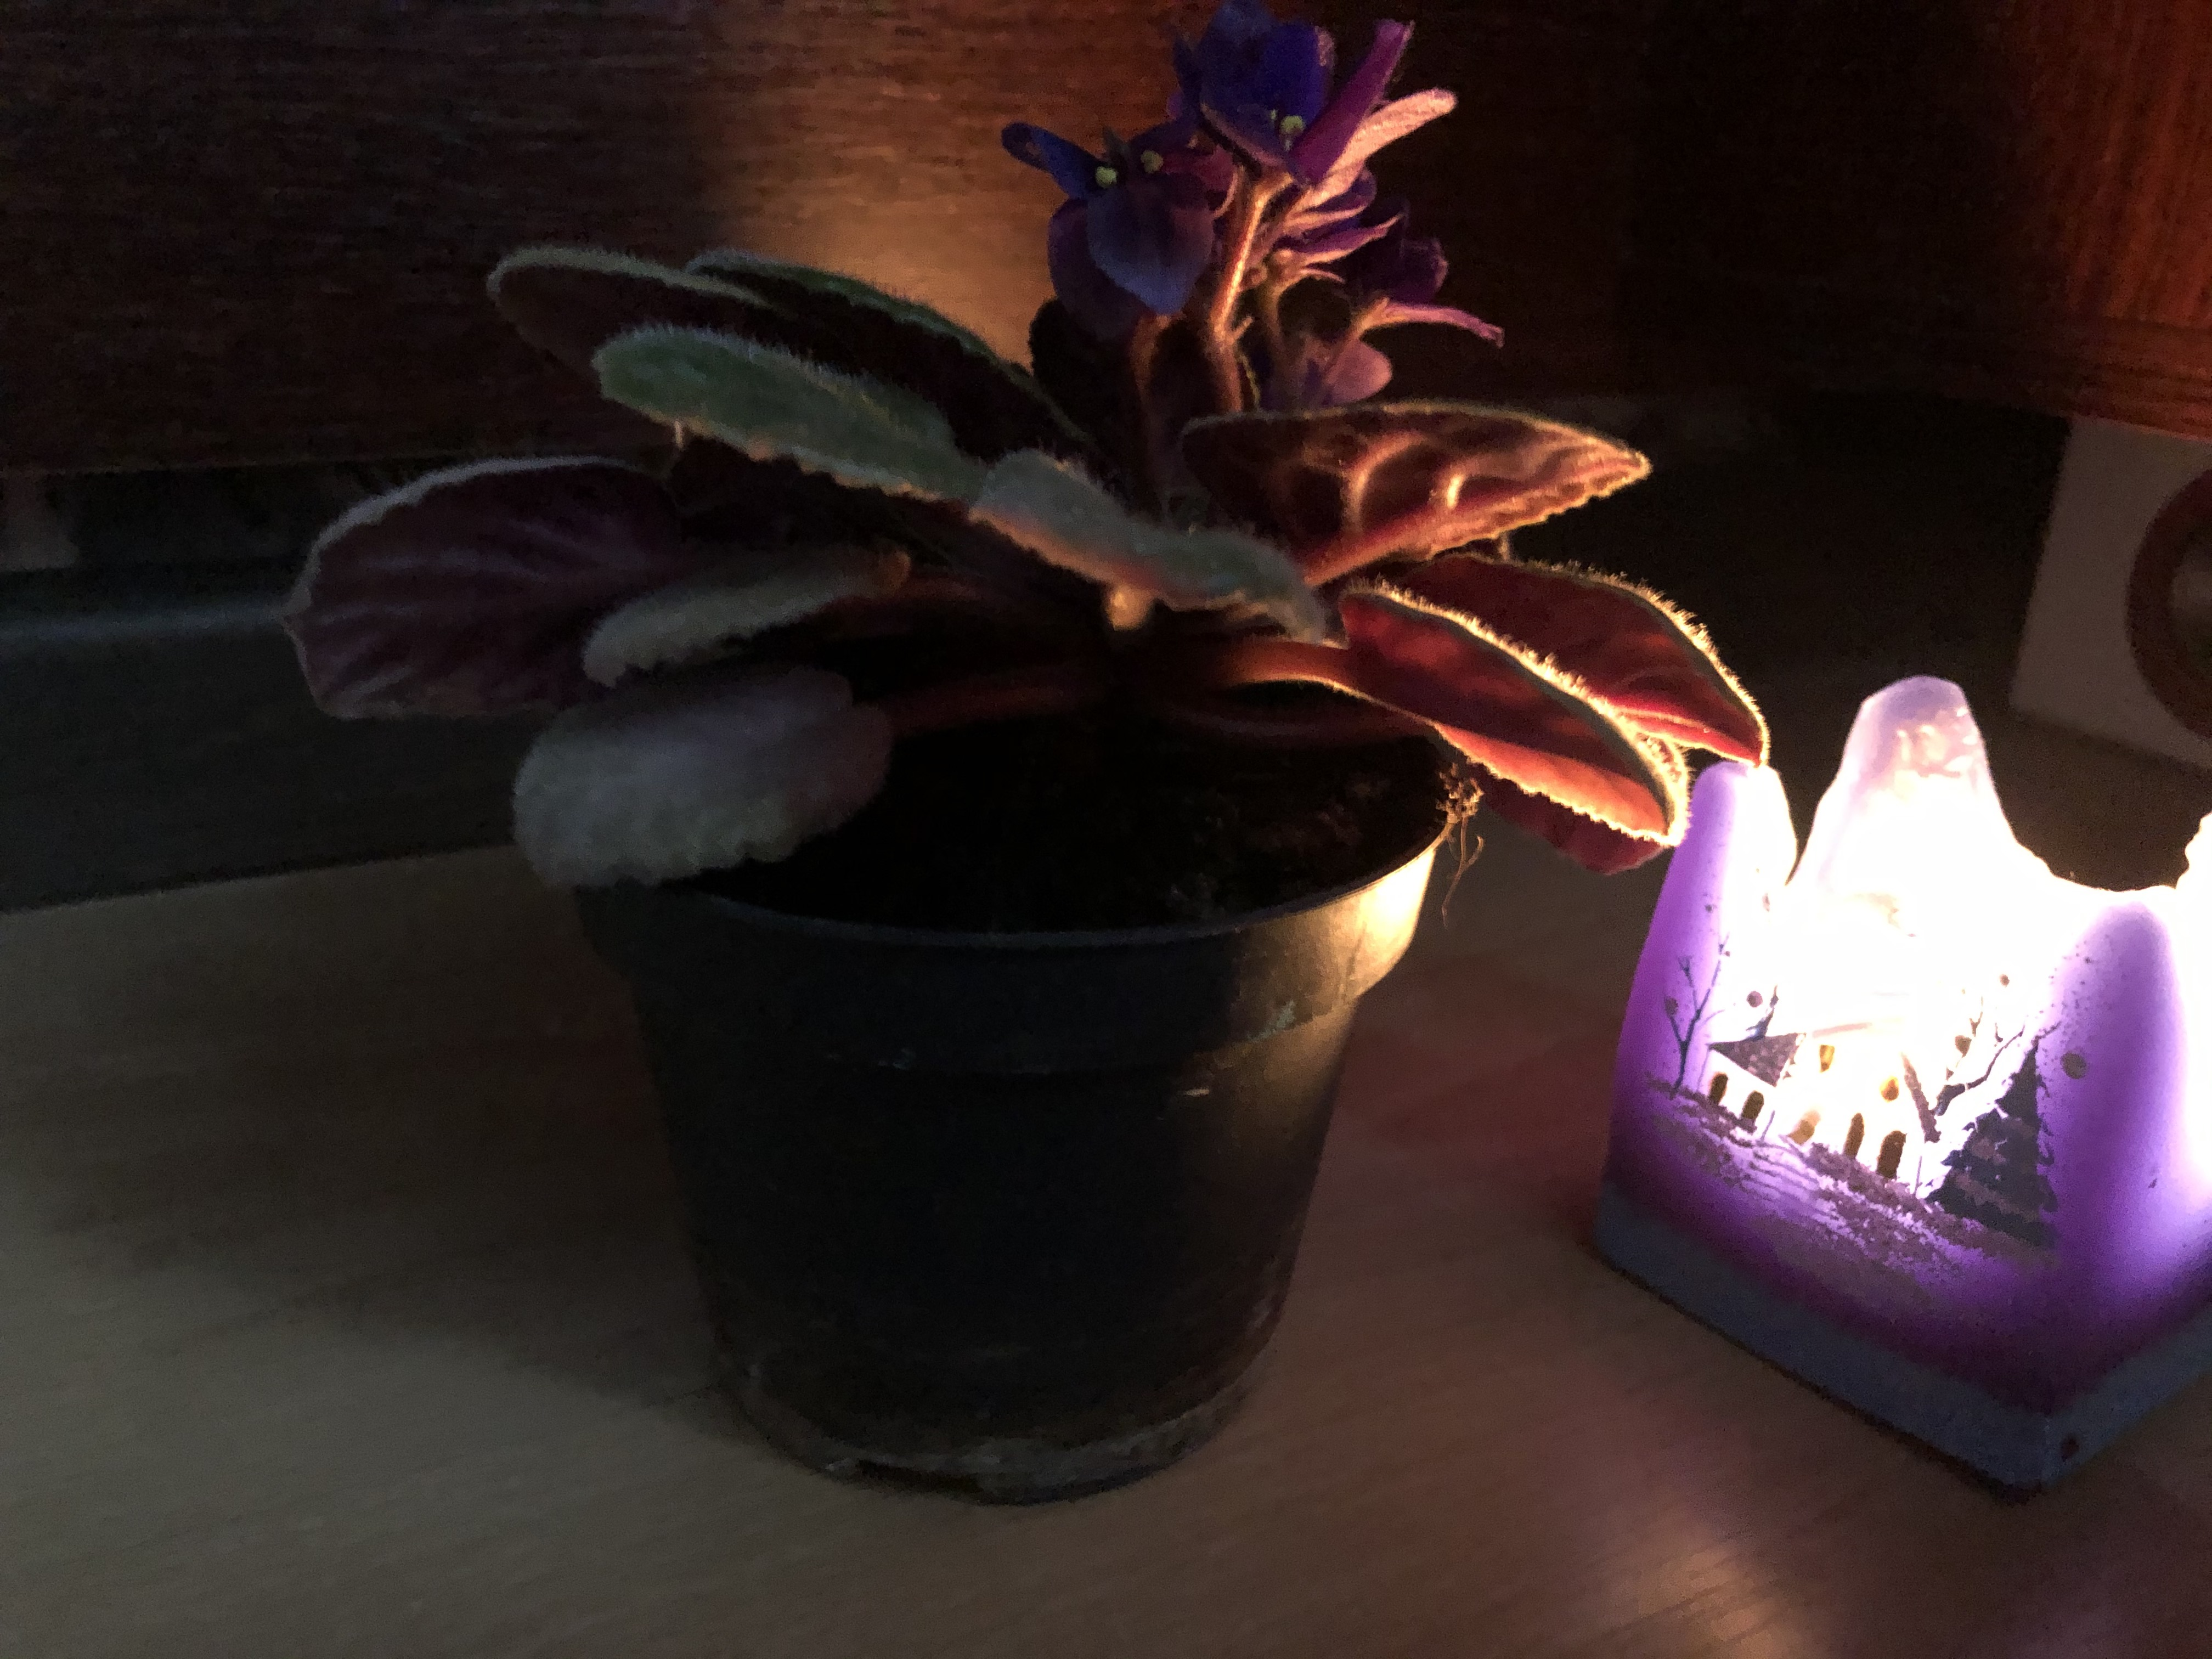ignore: (315, 40, 1688, 976)
